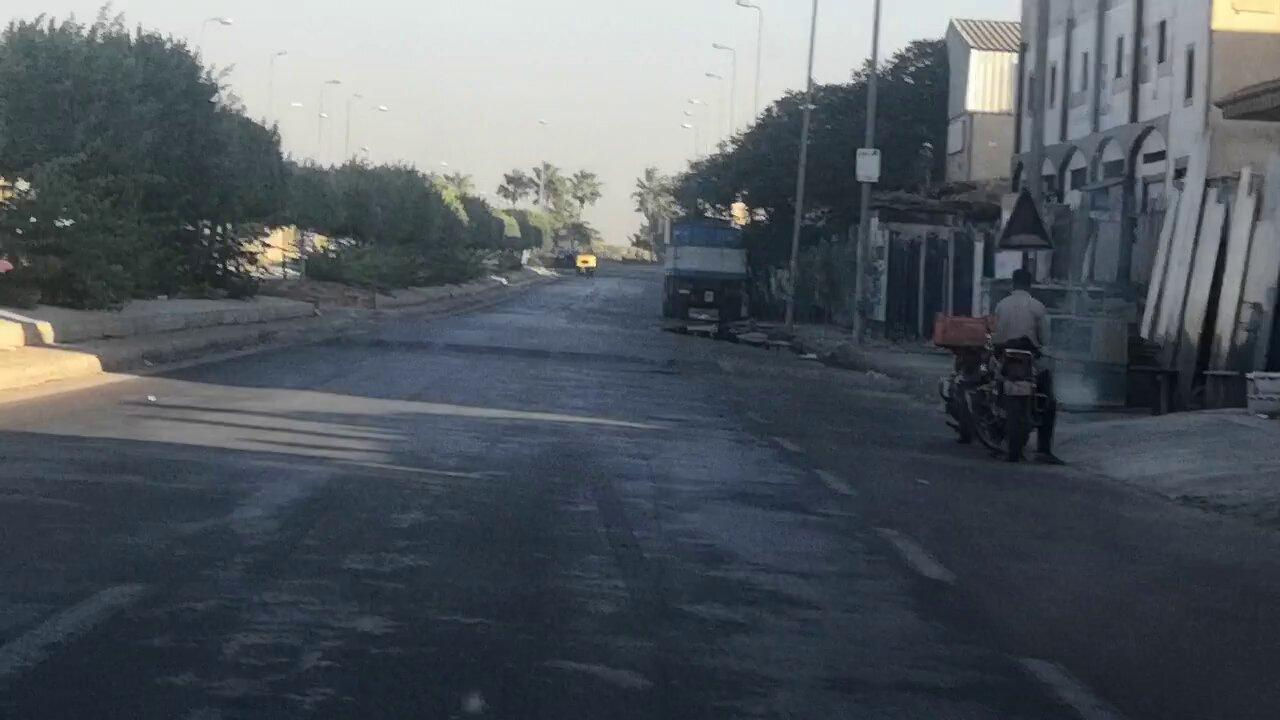Bump: (337, 323, 758, 367)
